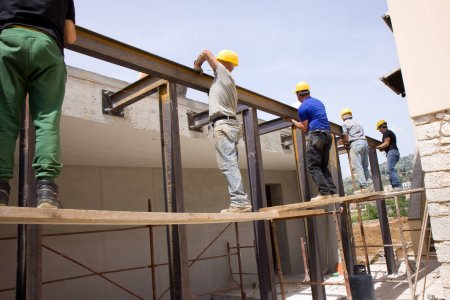casco: (216, 49, 240, 68), (294, 81, 311, 93), (376, 120, 387, 130), (340, 108, 353, 116)
